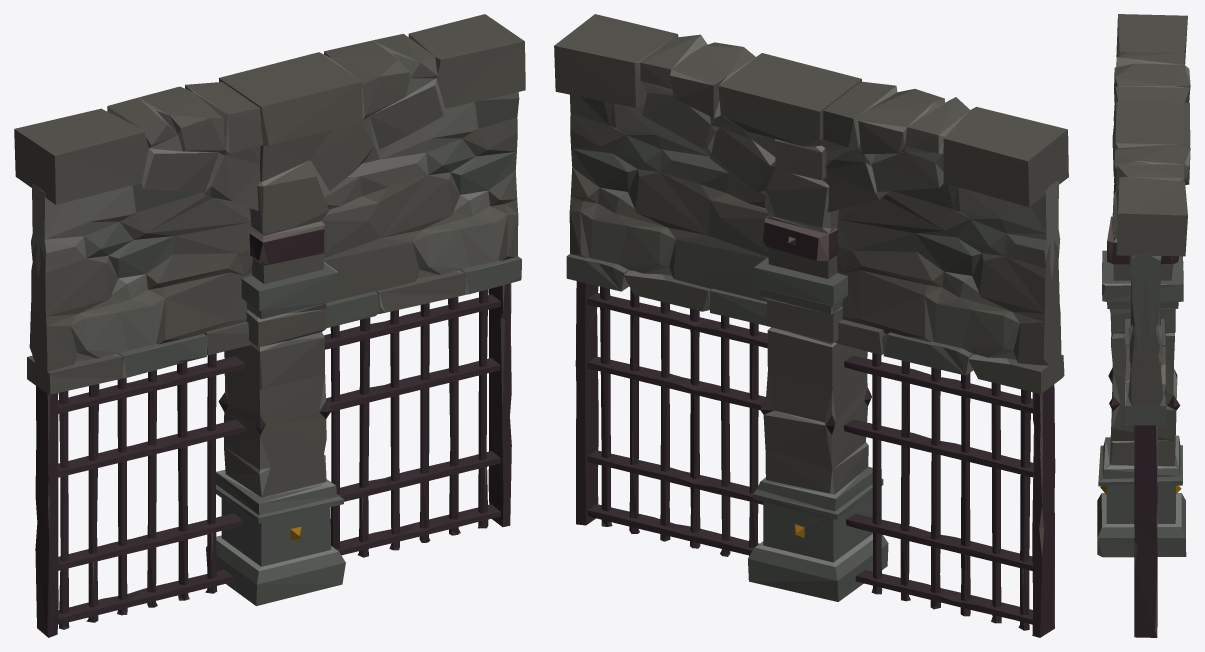
File: MDungeons_Walls_MetalBars_04.FBX
The picture shows the model from 3 angles, left to right: view 1: azimuth 30°, elevation 25°; view 2: azimuth 150°, elevation 25°; view 3: azimuth 270°, elevation 25°; orthographic projection. The views are drawn at different scales.
Parts seen in each view (by area): view 1: MDungeons_Walls_MetalBars_04_LOD0; view 2: MDungeons_Walls_MetalBars_04_LOD0; view 3: MDungeons_Walls_MetalBars_04_LOD0.
Boxes of the visible parts, bbox=[...] form: MDungeons_Walls_MetalBars_04_LOD0: bbox=[14, 14, 525, 637]; MDungeons_Walls_MetalBars_04_LOD0: bbox=[554, 14, 1068, 637]; MDungeons_Walls_MetalBars_04_LOD0: bbox=[1097, 14, 1190, 637].
Size of what is drawn, in the model's own units: 6.03 by 6.05 by 1.19.
